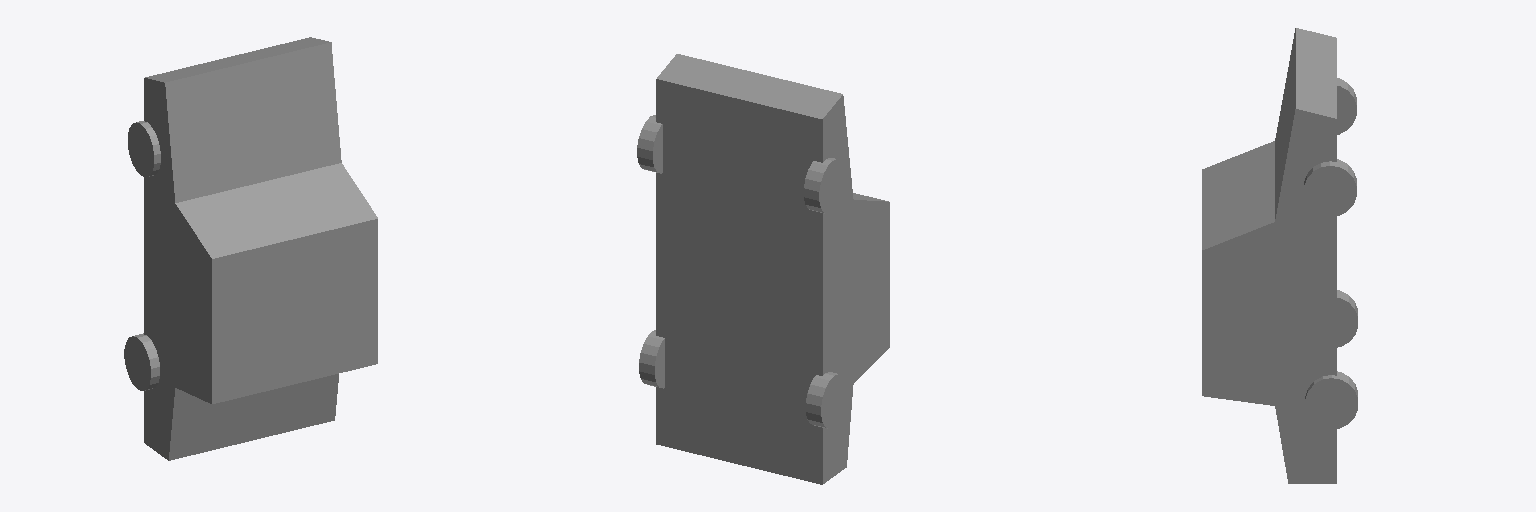
File: car.obj
3 renders of one model, left to right at view 1: azimuth 30°, elevation 25°; view 2: azimuth 150°, elevation 25°; view 3: azimuth 270°, elevation 25°, orthographic.
Parts seen in each view (by area): view 1: _9; view 2: _9; view 3: _9.
Boxes of the visible parts, x1=… form: _9: x1=124, y1=37, x2=377, y2=460; _9: x1=637, y1=54, x2=889, y2=484; _9: x1=1202, y1=28, x2=1357, y2=483.
Size of the model in its own units: 39.39 by 76.54 by 28.93.